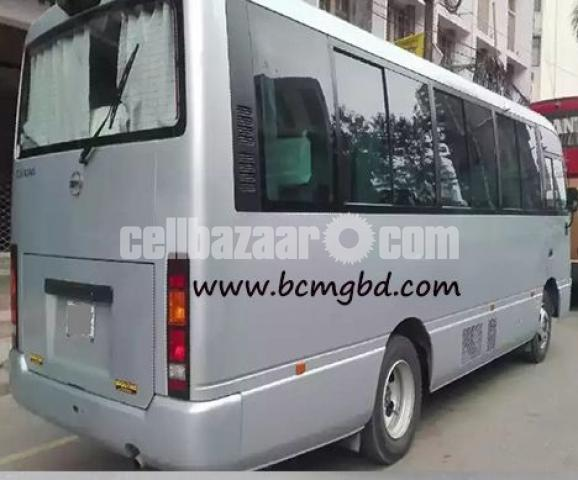bus: (10, 3, 574, 468)
